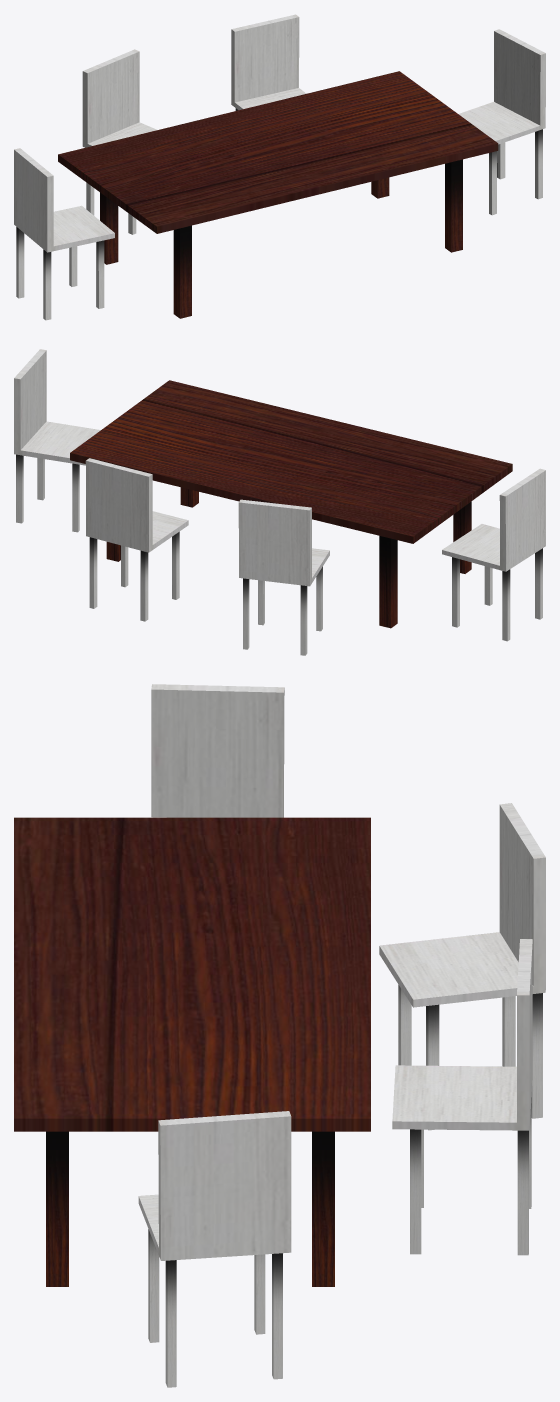
The model's file is tableset2.obj.
The picture shows the model from 3 angles, top to bottom: view 1: azimuth 30°, elevation 25°; view 2: azimuth 150°, elevation 25°; view 3: azimuth 270°, elevation 25°; orthographic projection. The views are drawn at different scales.
Size of the model in its own units: 4.23 by 1.18 by 2.15.
1 material, 1 textured.
